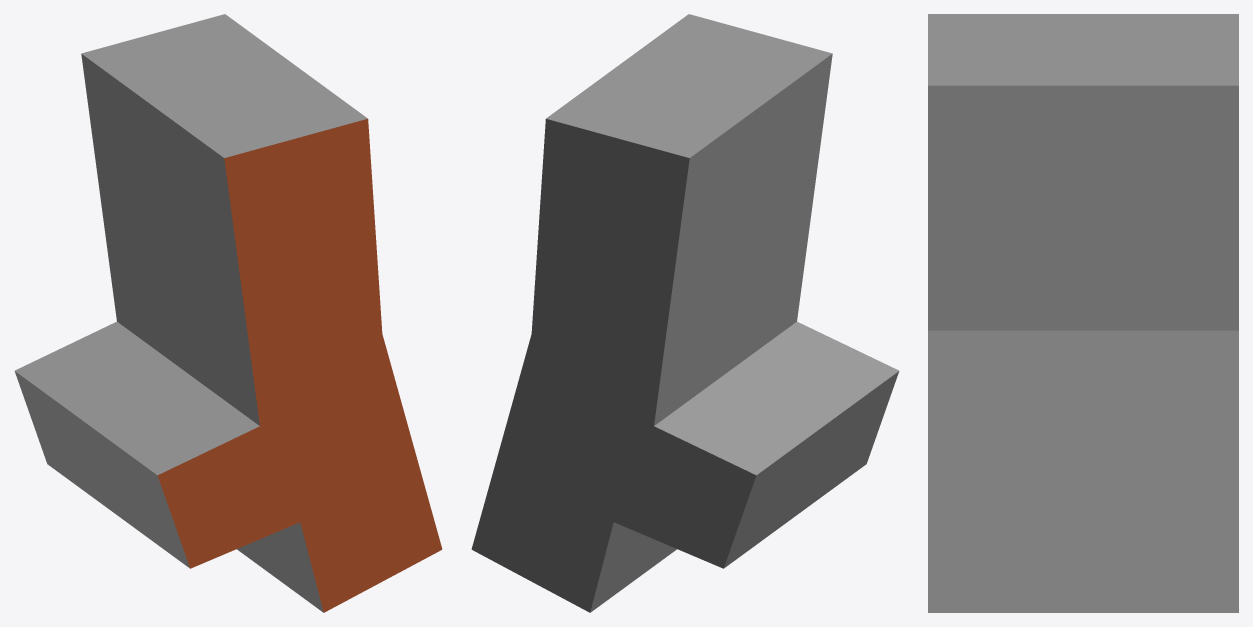
The model's file is construction_3729_assumed_A_Casa_h6m.obj.
3 renders of one model, left to right at view 1: azimuth 30°, elevation 25°; view 2: azimuth 150°, elevation 25°; view 3: azimuth 270°, elevation 25°, orthographic. The views are drawn at different scales.
Visible parts, largest first — view 1: construction_3729_assumed_A_Casa; view 2: construction_3729_assumed_A_Casa; view 3: construction_3729_assumed_A_Casa.
Part boxes in pixels (<box>): construction_3729_assumed_A_Casa: <box>14,14,442,612</box>; construction_3729_assumed_A_Casa: <box>471,14,899,612</box>; construction_3729_assumed_A_Casa: <box>928,14,1238,612</box>.
Size of the model in its own units: 6.9 by 11.19 by 6.
